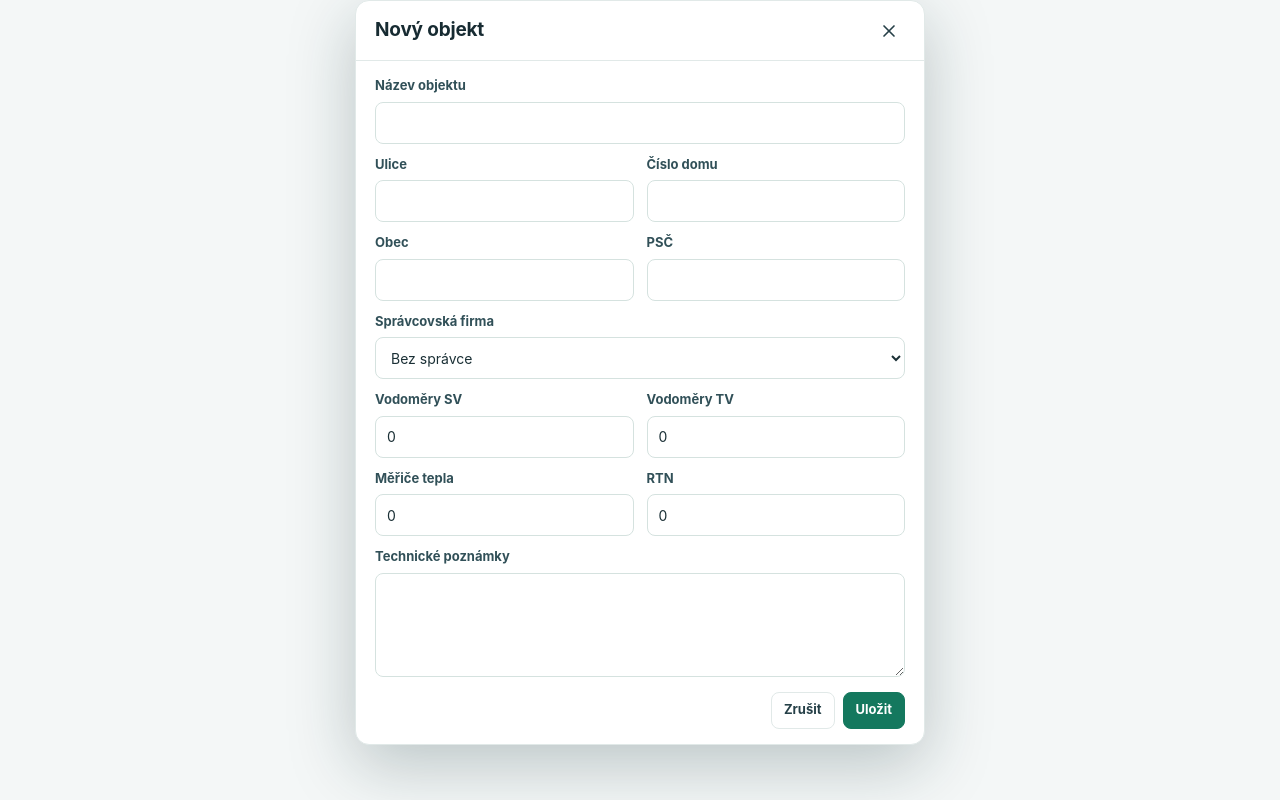
Test case: Objekty › odmítne záporný počet ještě před odesláním příkazu
This screenshot has width=1280, height=800.
Type "Dům A" into the field labelled "Název objektu".
click(640, 122); type("Dům A")  # box top-left (375, 102), bottom-right (905, 144)
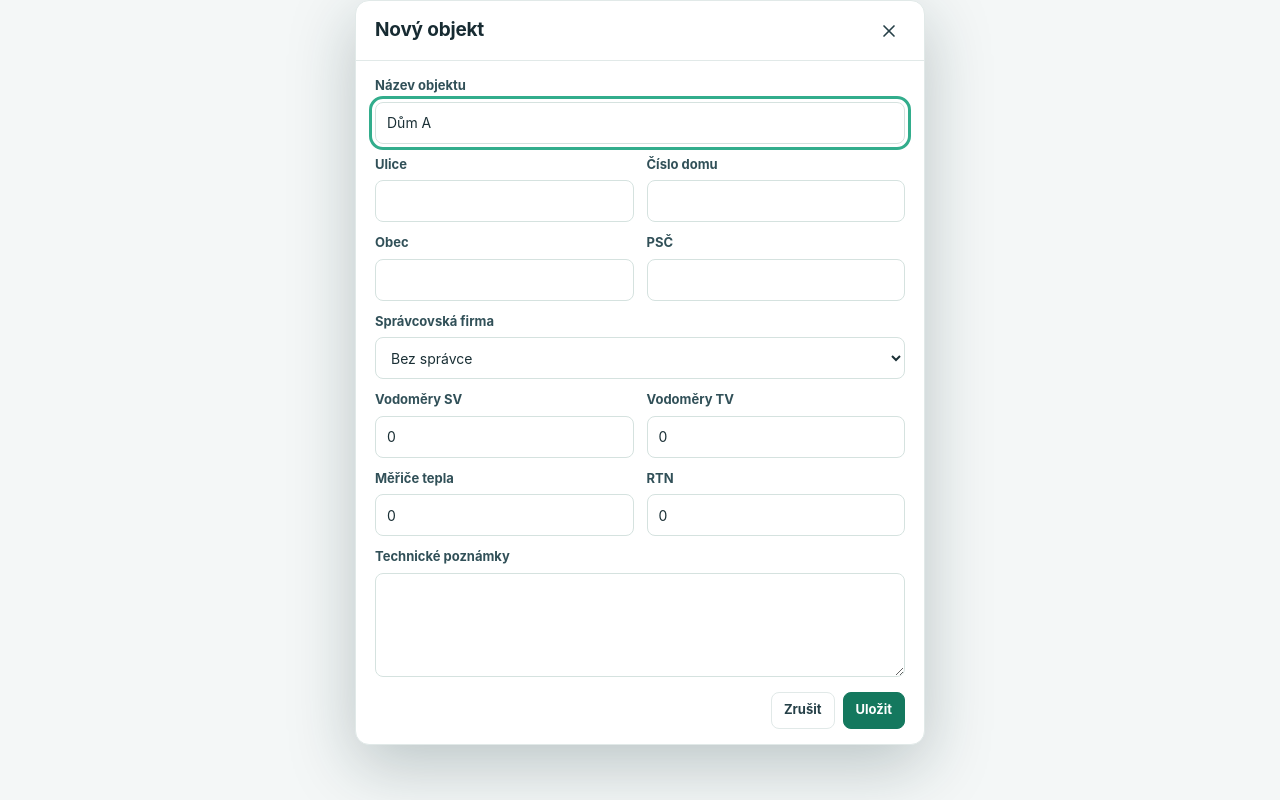
Type "Česká" into the field labelled "Ulice".
click(504, 201); type("Česká")  # box top-left (375, 180), bottom-right (634, 222)
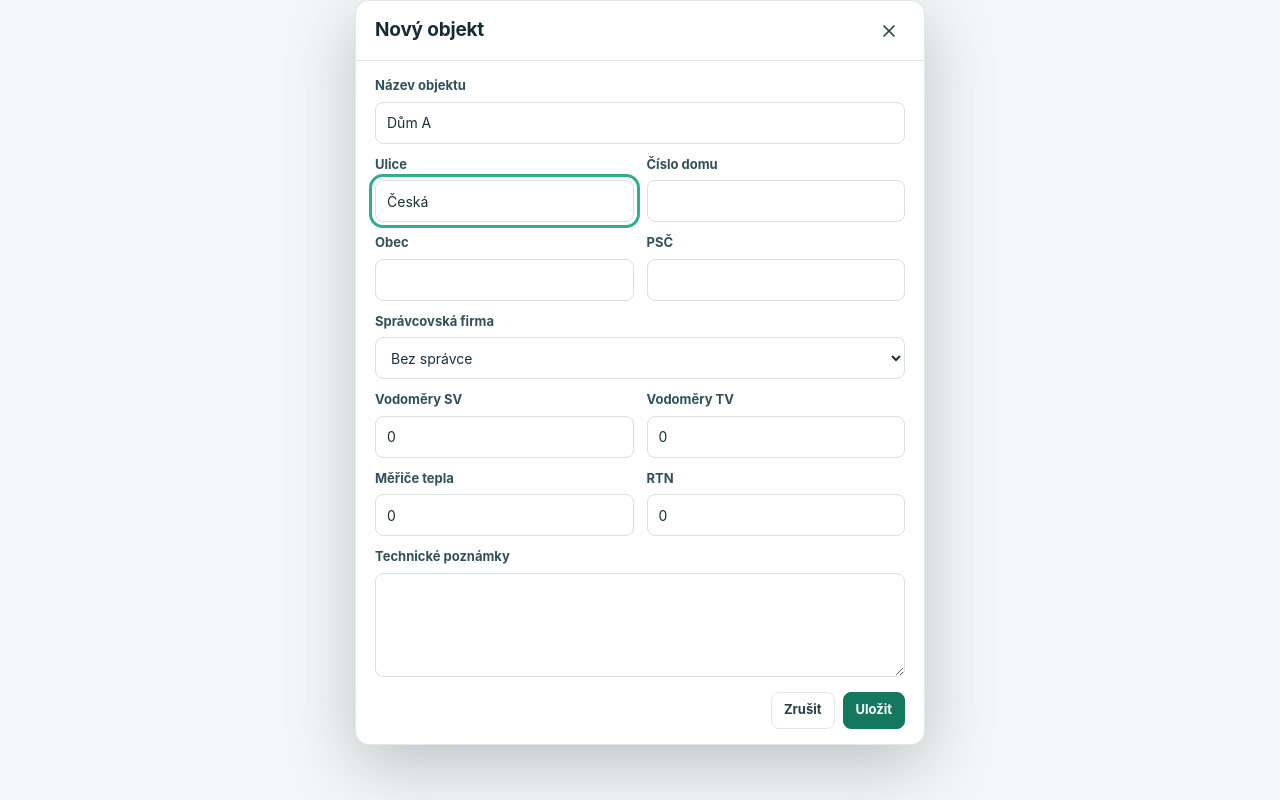
Type "Plzeň" into the field labelled "Obec".
click(504, 280); type("Plzeň")  # box top-left (375, 258), bottom-right (634, 300)
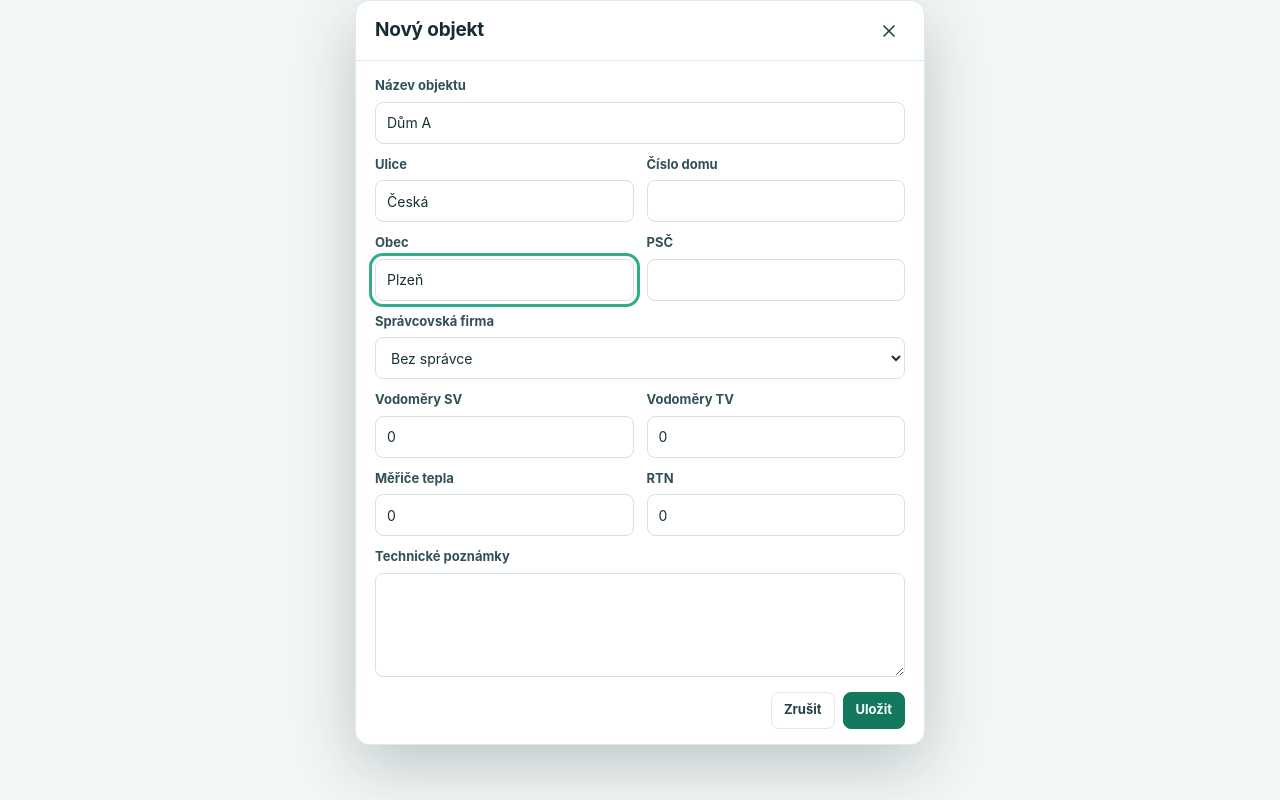
Replace the text in the number field labelled "Vodoměry SV" with "-2" at (504, 436), box top-left (375, 416), bottom-right (634, 458)
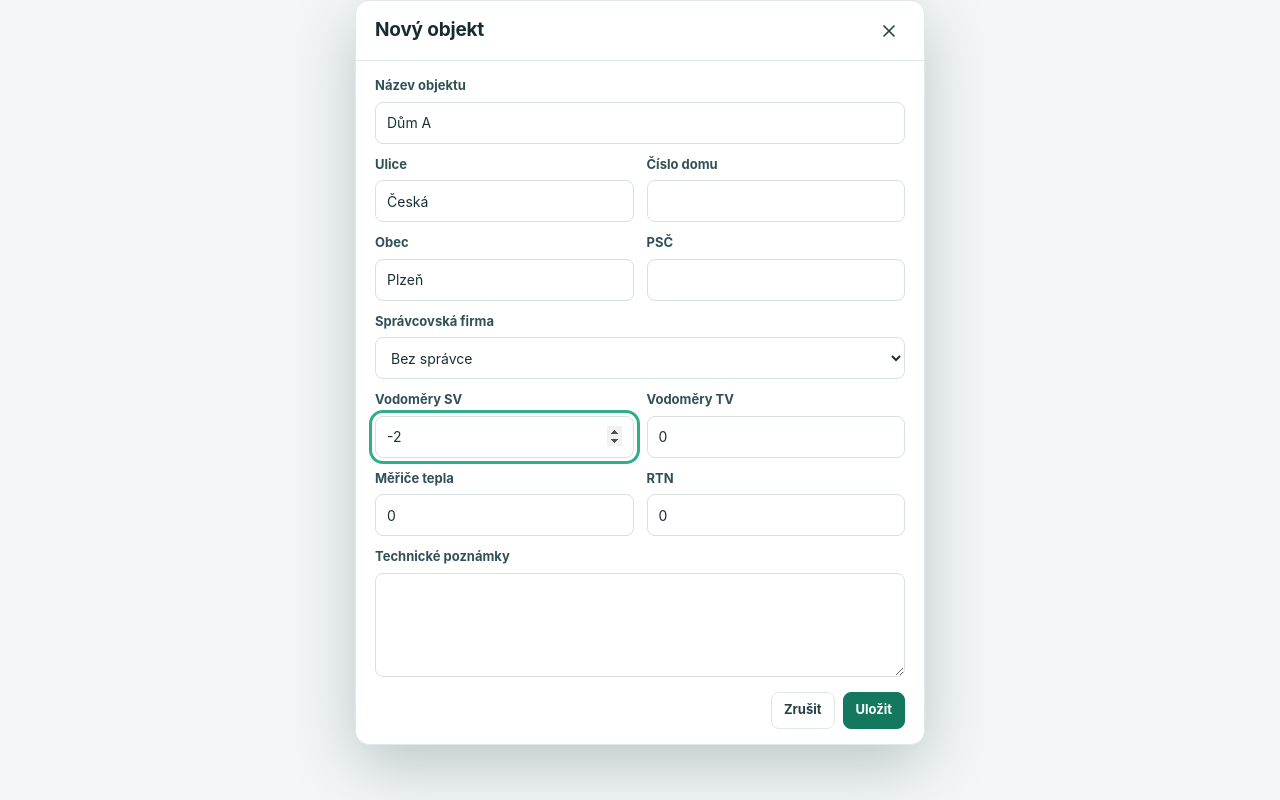
Click the button "Uložit".
click(874, 710)  # box top-left (842, 692), bottom-right (905, 728)
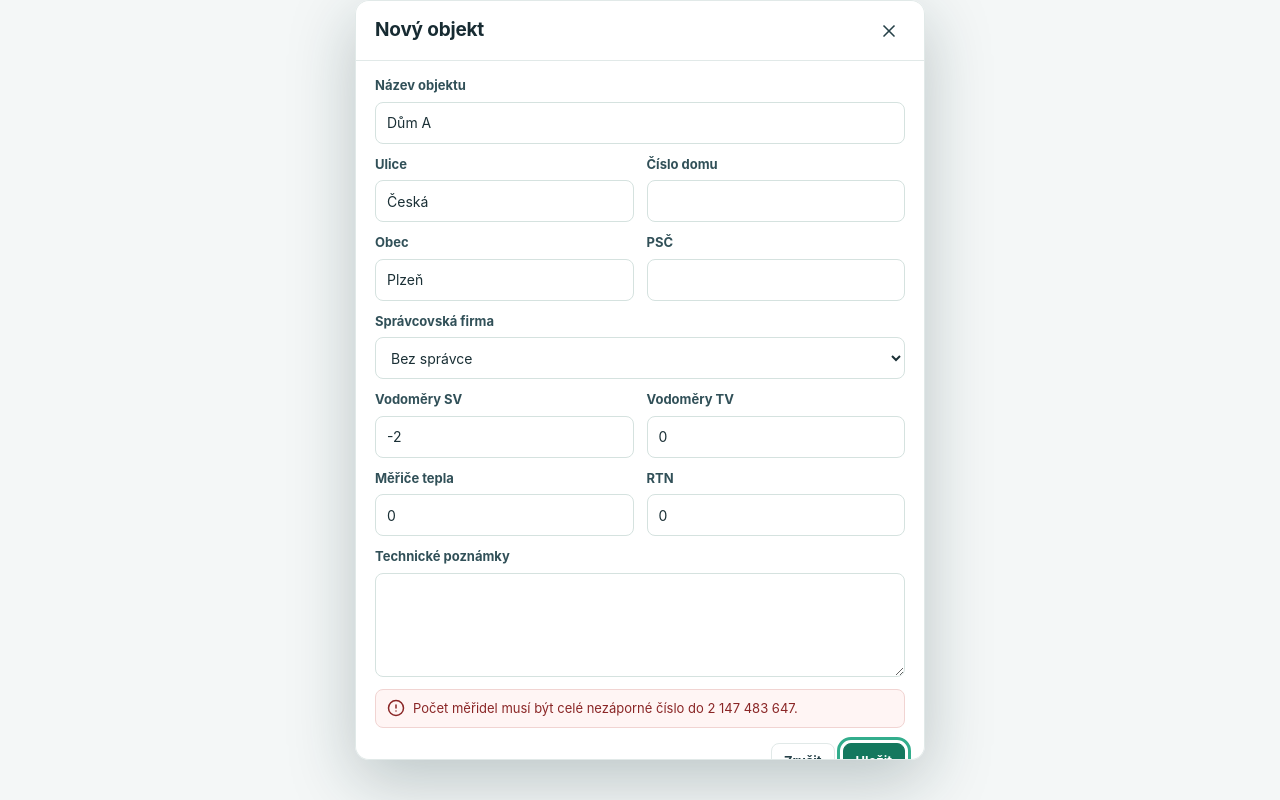
Expected: the message shows "celé nezáporné číslo", top-left (413, 700), bottom-right (798, 716)
